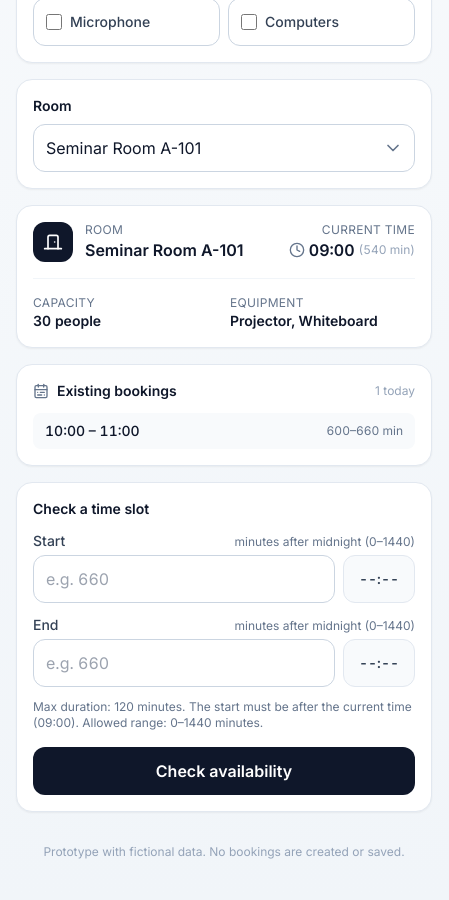
Scenario: room switching in the app › clears the old availability result when the selected room changes (F5)
(page scrolled)
Type "630" into the field labelled "Start" at (184, 579), box top-left (33, 555), bottom-right (335, 603)
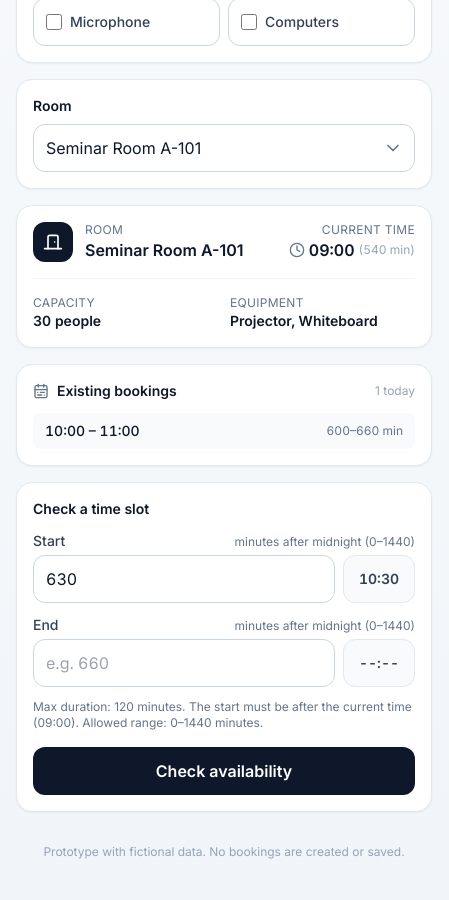
Type "700" into the field labelled "End" at (184, 663), box top-left (33, 639), bottom-right (335, 687)
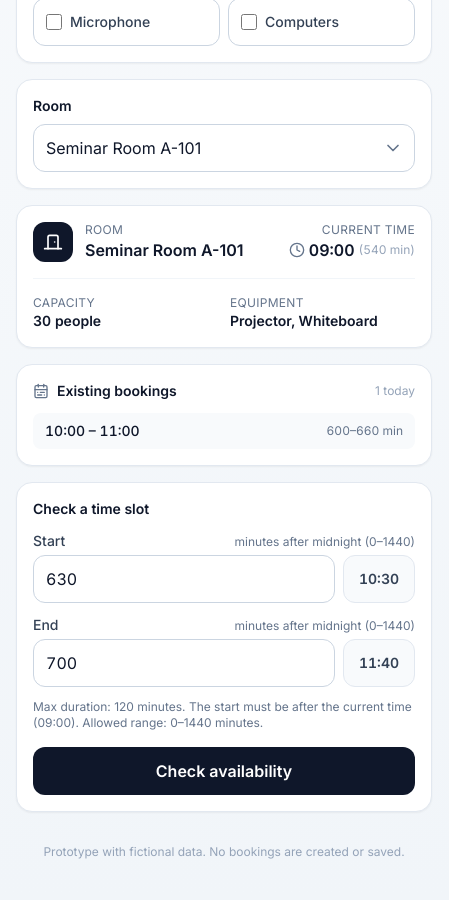
Click the button "Check availability" at (224, 771), box top-left (33, 747), bottom-right (415, 795)
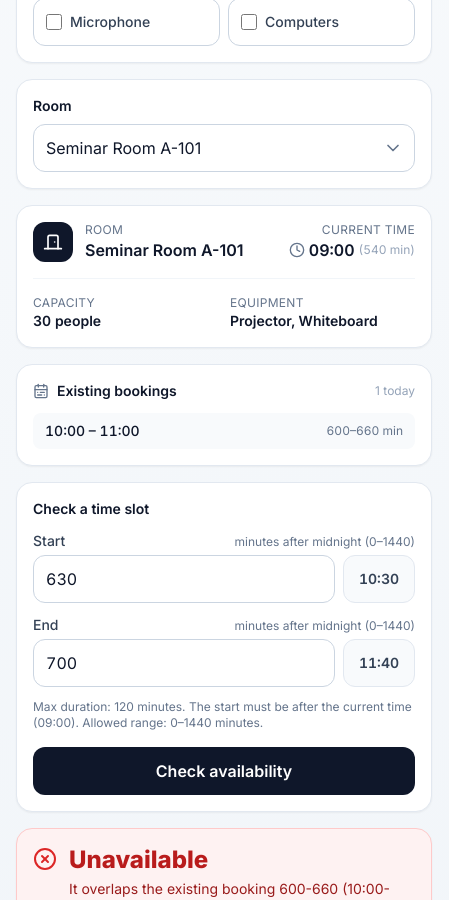
expect the text "Unavailable" is shown: met, box top-left (69, 845), bottom-right (208, 874)
Select "Study Room B-202" in the dropdown labelled "Room" at (224, 148), box top-left (33, 124), bottom-right (415, 172)
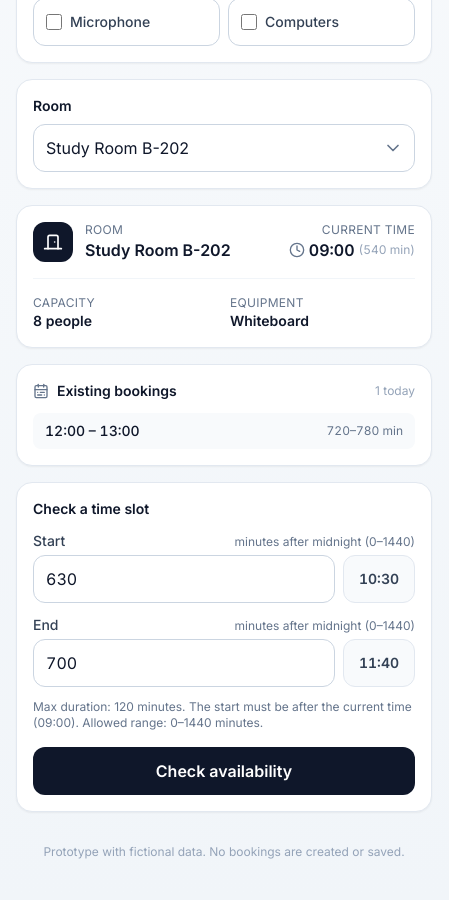
expect the text "Unavailable" is gone: met
expect the text "available" is gone: met
